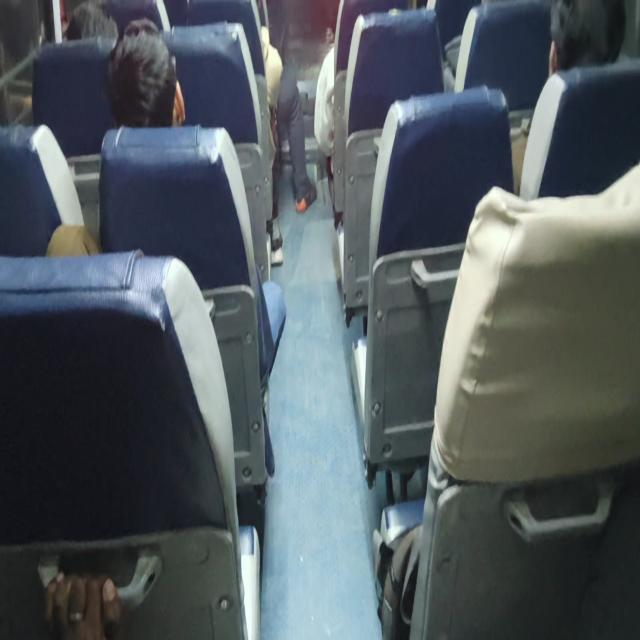person: (111, 28, 191, 126), (541, 0, 635, 74), (59, 0, 138, 46)
